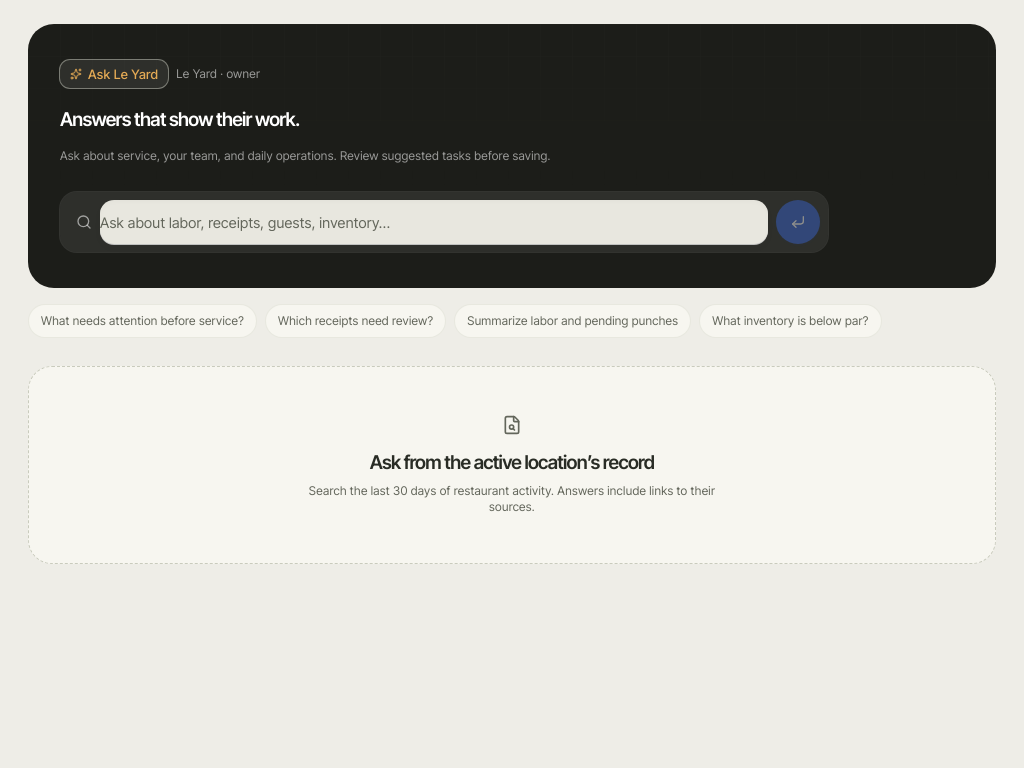
it: owner intelligence confirmation boundary › does not create a task until the owner reviews and confirms, then offers undo
The image size is (1024, 768).
Step 1. Type "Create a high-priority task to review tomorrow's pickup list" into the field named "ask a question" → (434, 222), box [100,200,768,244]
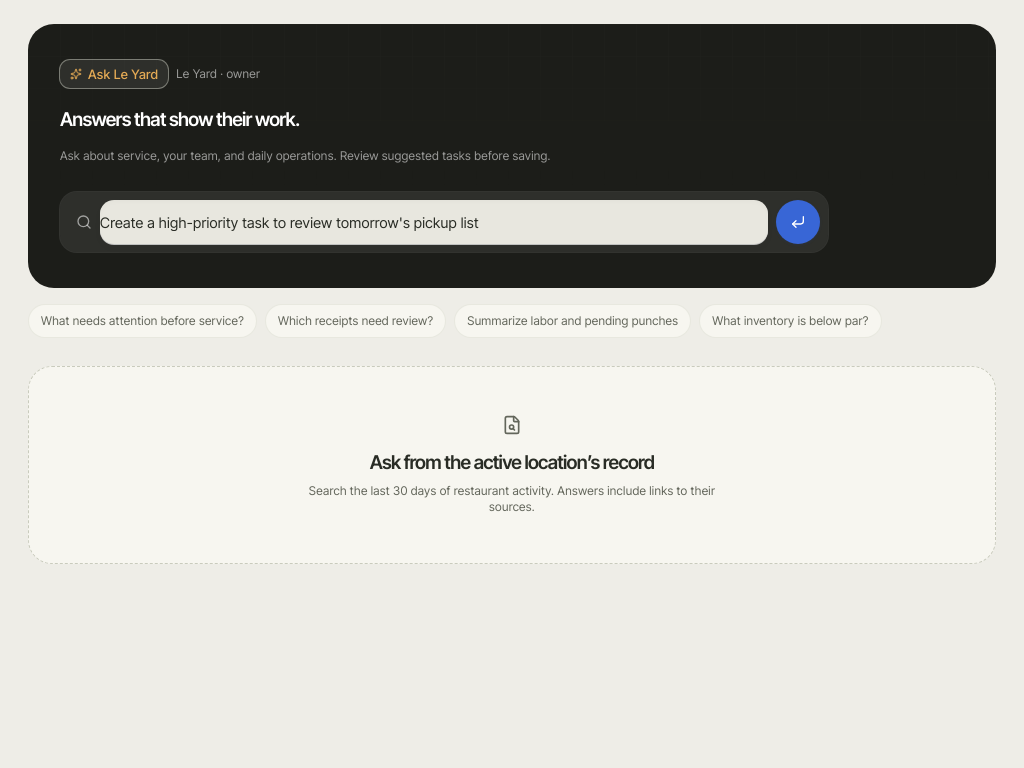
Step 2. Click the button named "Ask Le Yard" → (798, 222), box [776,200,820,244]
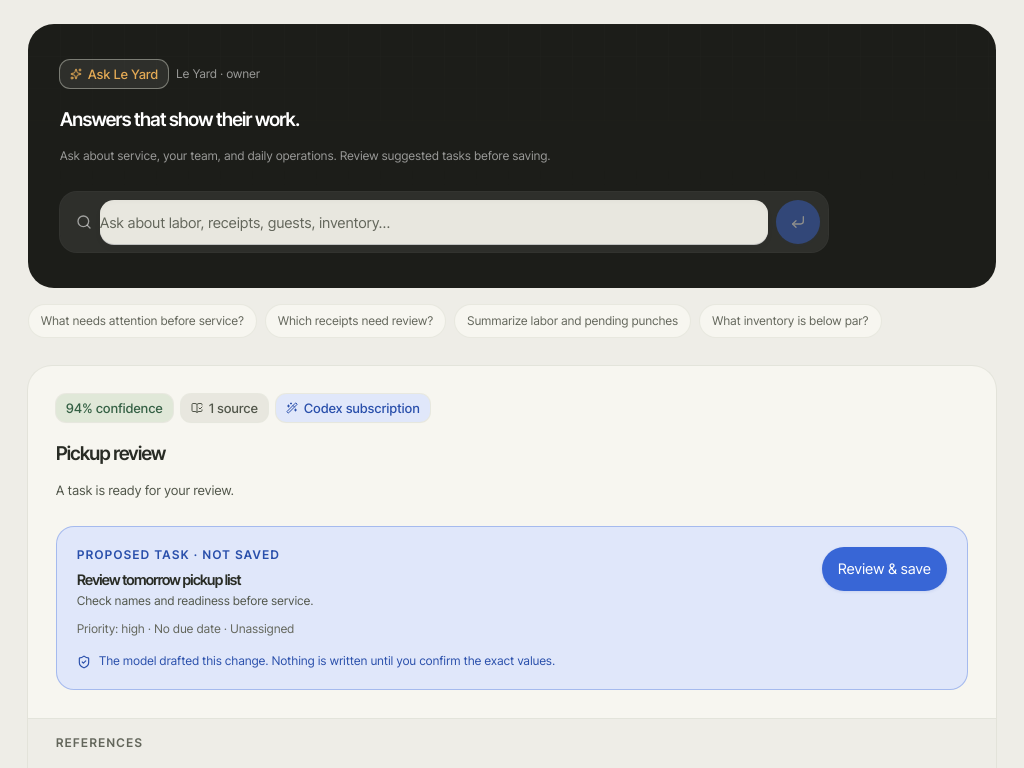
Check: the button "Review & save" is enabled
Step 3. Click the button "Review & save" → (884, 569), box [822,547,947,591]
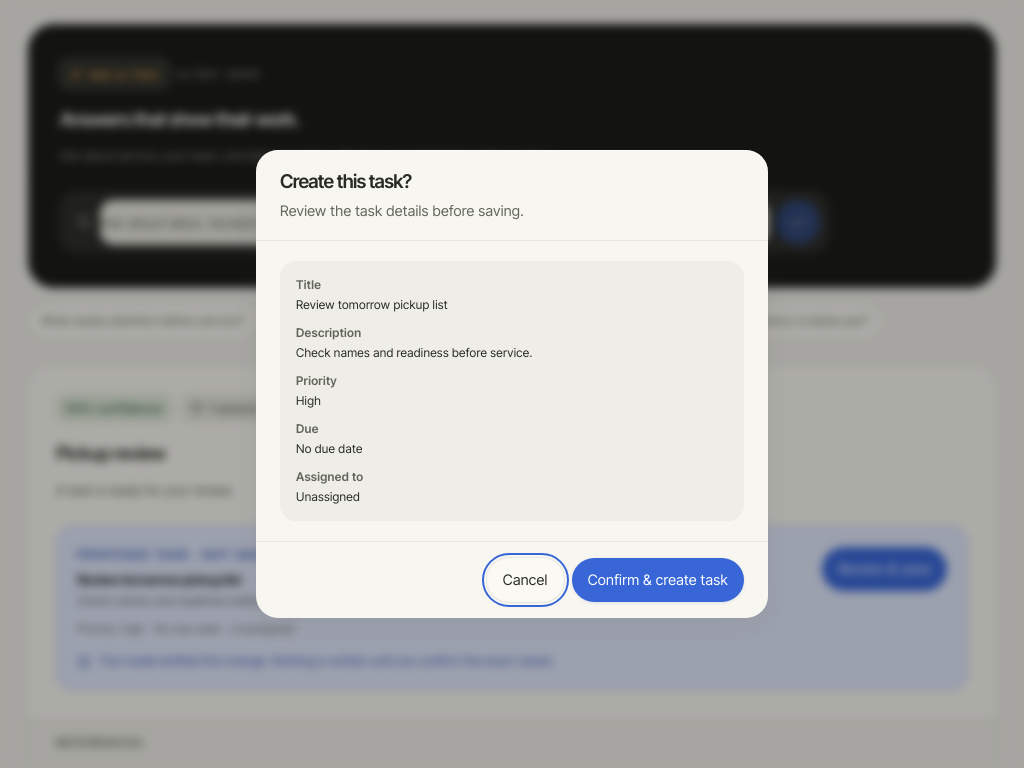
Check: the heading "Create this task?" is shown, box [280,170,412,193]
Check: the text "Review tomorrow pickup list" is shown, box [296,297,448,312]
Step 4. Click the button "Confirm & create task" → (658, 580), box [572,558,744,602]
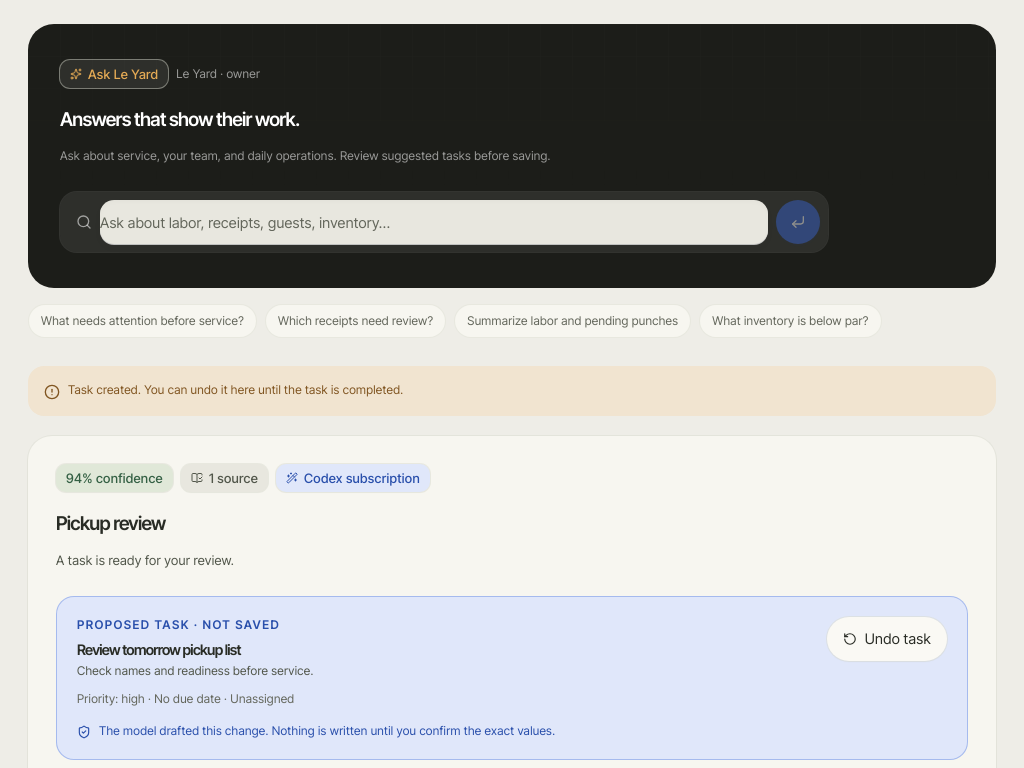
Check: the button "Undo task" is enabled
Step 5. Click the button "Undo task" → (887, 639), box [827,617,947,661]
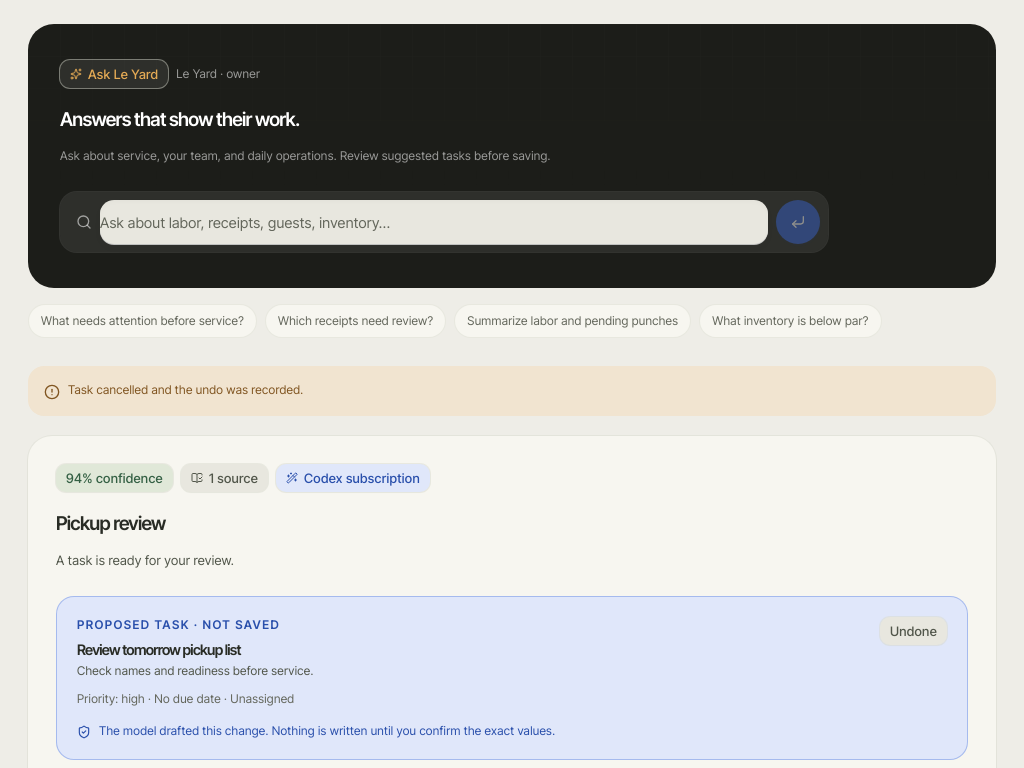
Check: the text "Undone" is shown, box [880,617,947,645]
